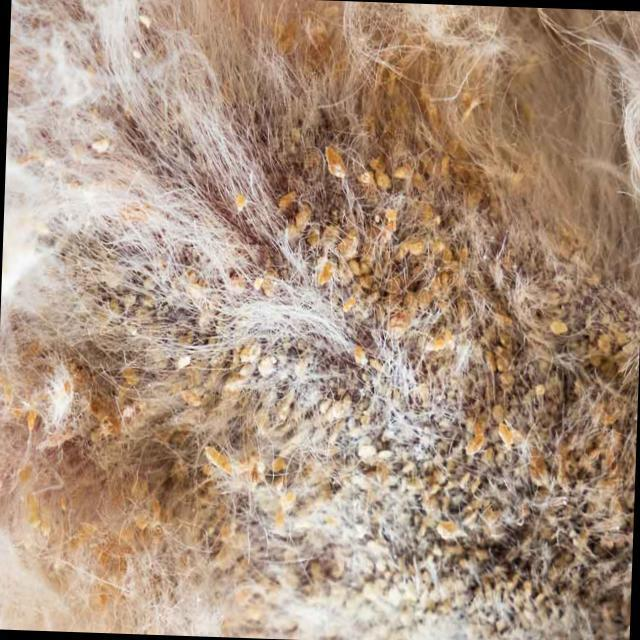fungal infection: (198, 342, 640, 640), (239, 129, 482, 334), (9, 467, 194, 607), (19, 337, 194, 469), (470, 231, 640, 348), (64, 243, 221, 325)
